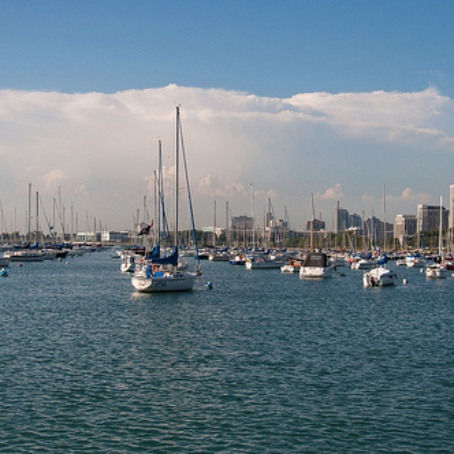boat: (128, 108, 205, 293)
building: (229, 209, 256, 238), (332, 205, 359, 234), (421, 203, 448, 232), (392, 210, 419, 239)
sea: (6, 261, 454, 454)
sky: (1, 1, 442, 199)
